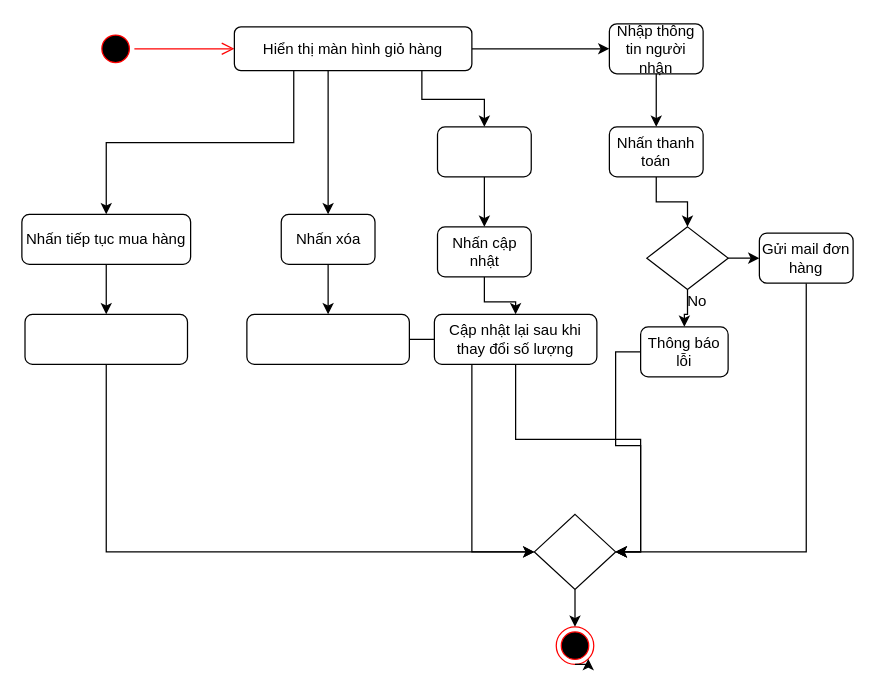
This 875x696 diagram has some shape labels left out. Each missing label, with the centre of its shape:
"Nhập lại số lượng" belongs at [483,151].
"Xóa sản phẩm khỏi giỏ hàng khi chủa thanh toán" belongs at [327,338].
"Yes" belongs at [687,257].
"Đưa về trang chủ" belongs at [106,338].
